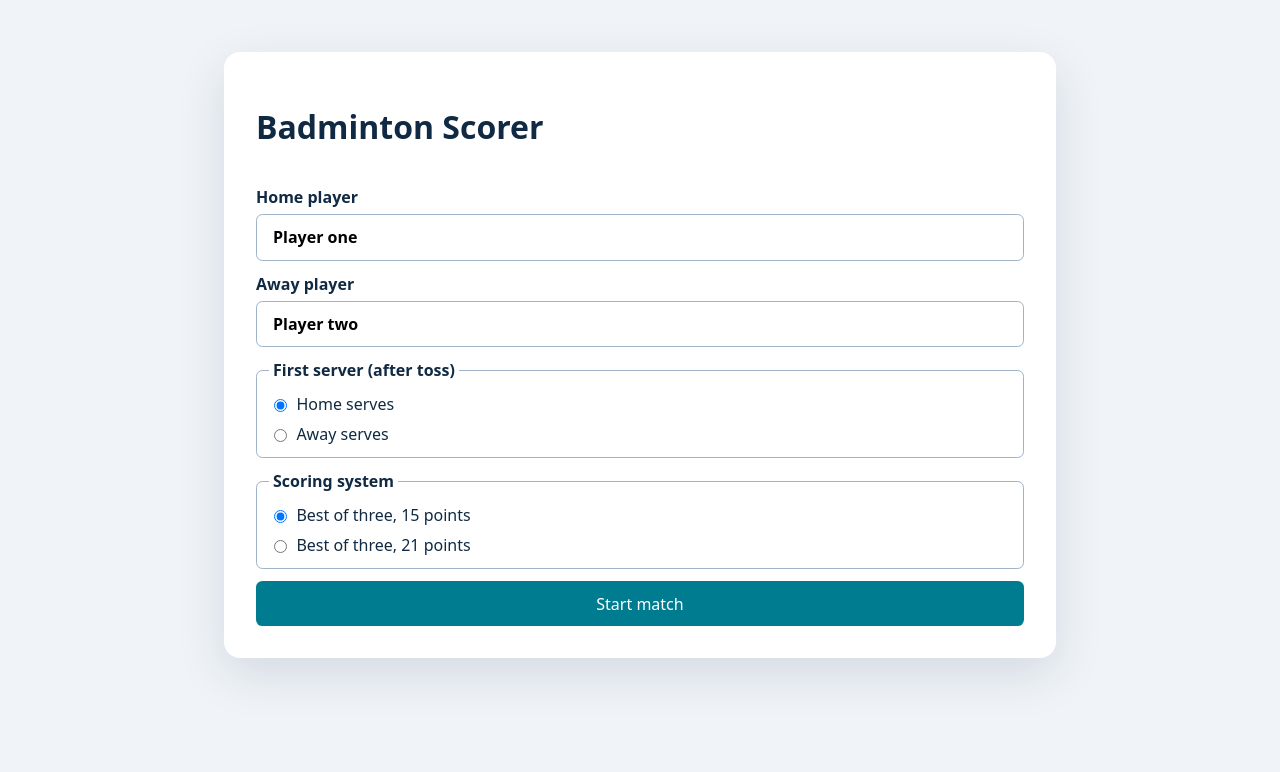
Test: match scoring workflow › keeps the match visible when abandoning is cancelled
The image size is (1280, 772).
Click the button "Start match".
click(640, 604)  # box [256,581,1024,626]
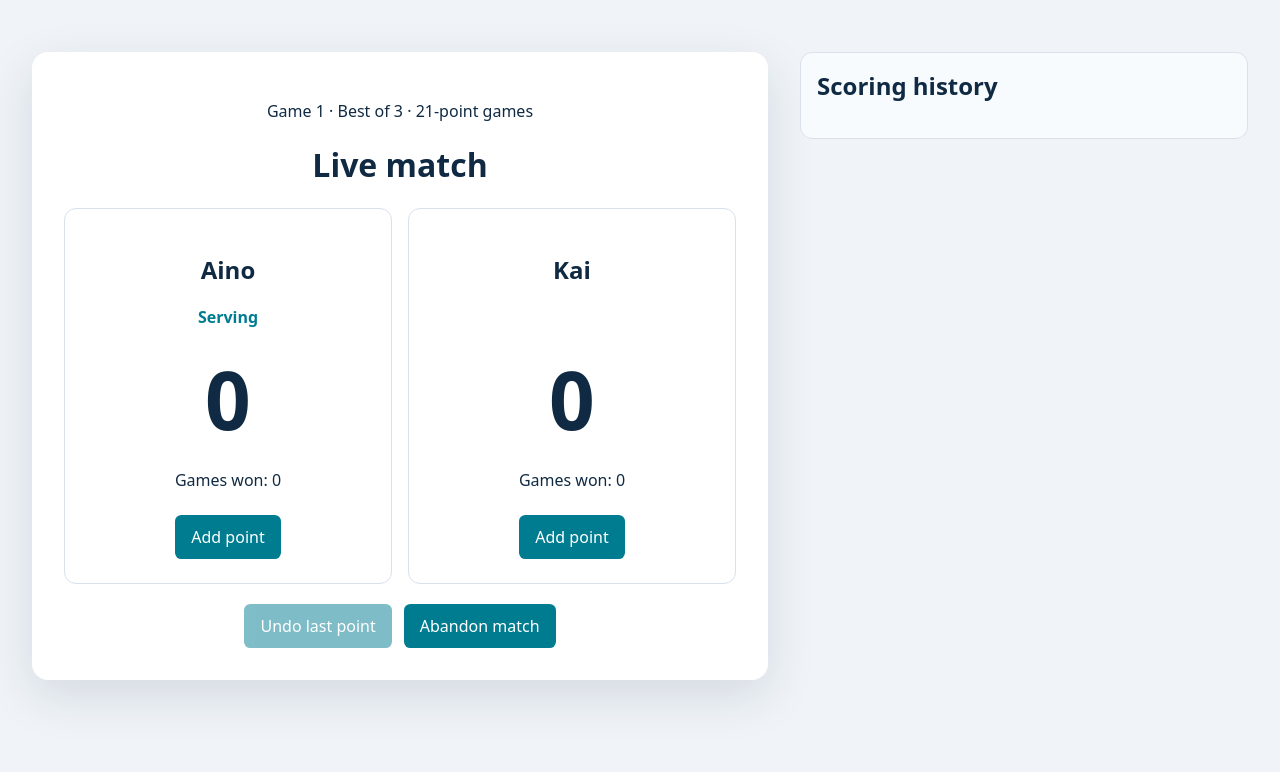
Expected: the heading "Live match" is shown, [312,143,488,186]
Click the button "Abandon match".
click(480, 626)  # box [404,604,556,648]
(page scrolled)
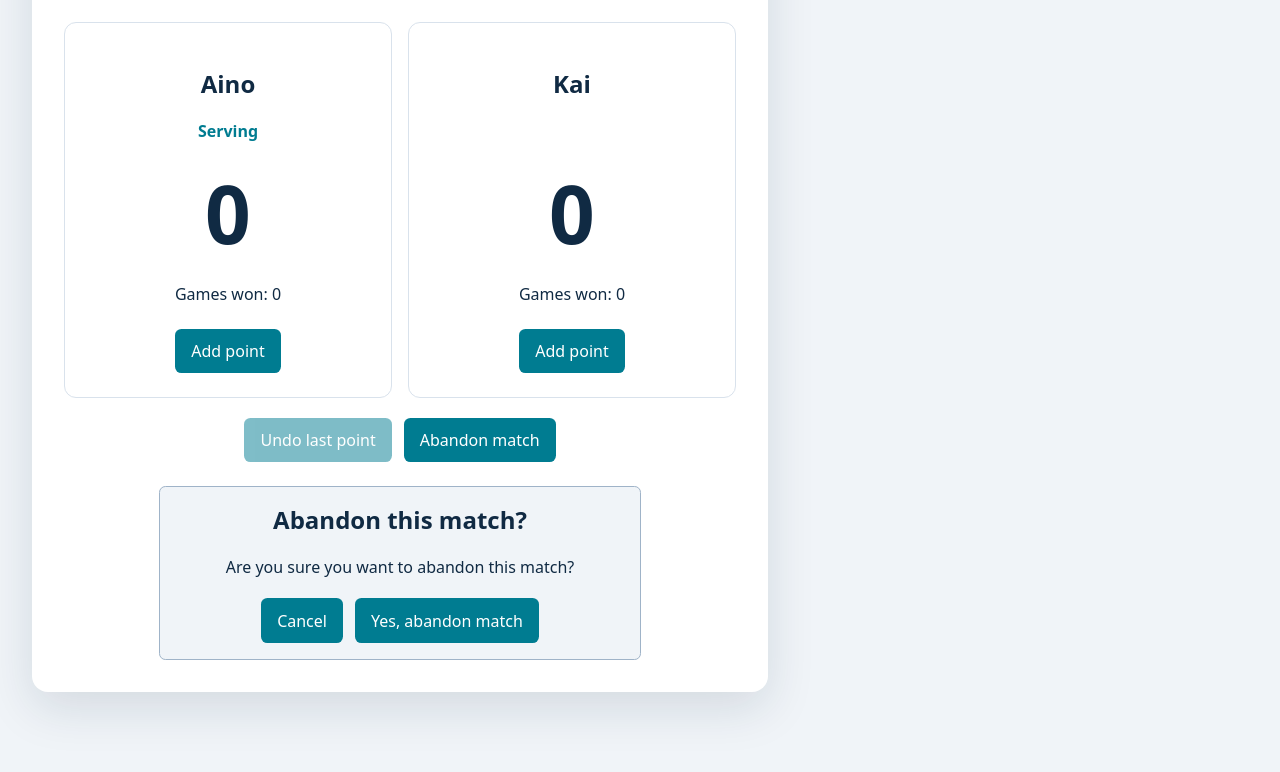
Click the button "Cancel".
click(302, 620)  # box [261,598,343,643]
(page scrolled)
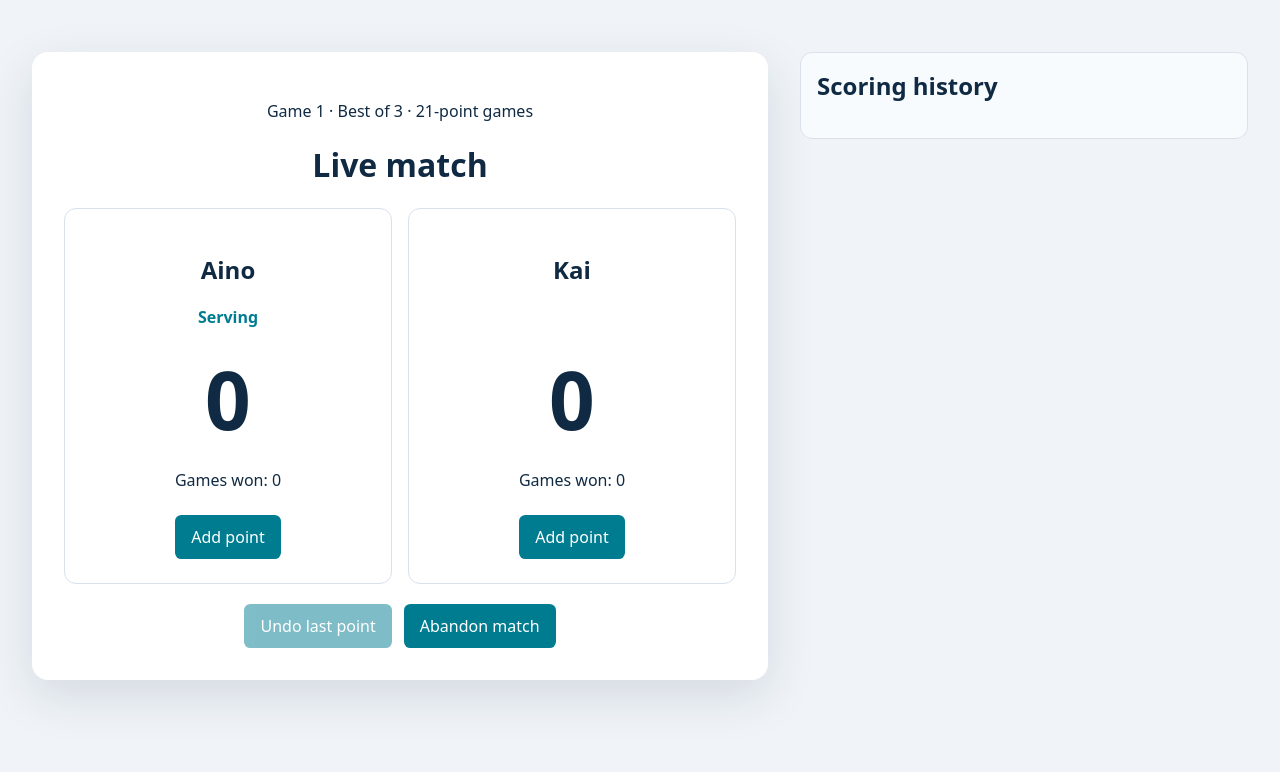
Expected: the heading "Live match" is shown, [312,143,488,186]
Expected: the dialog is gone
